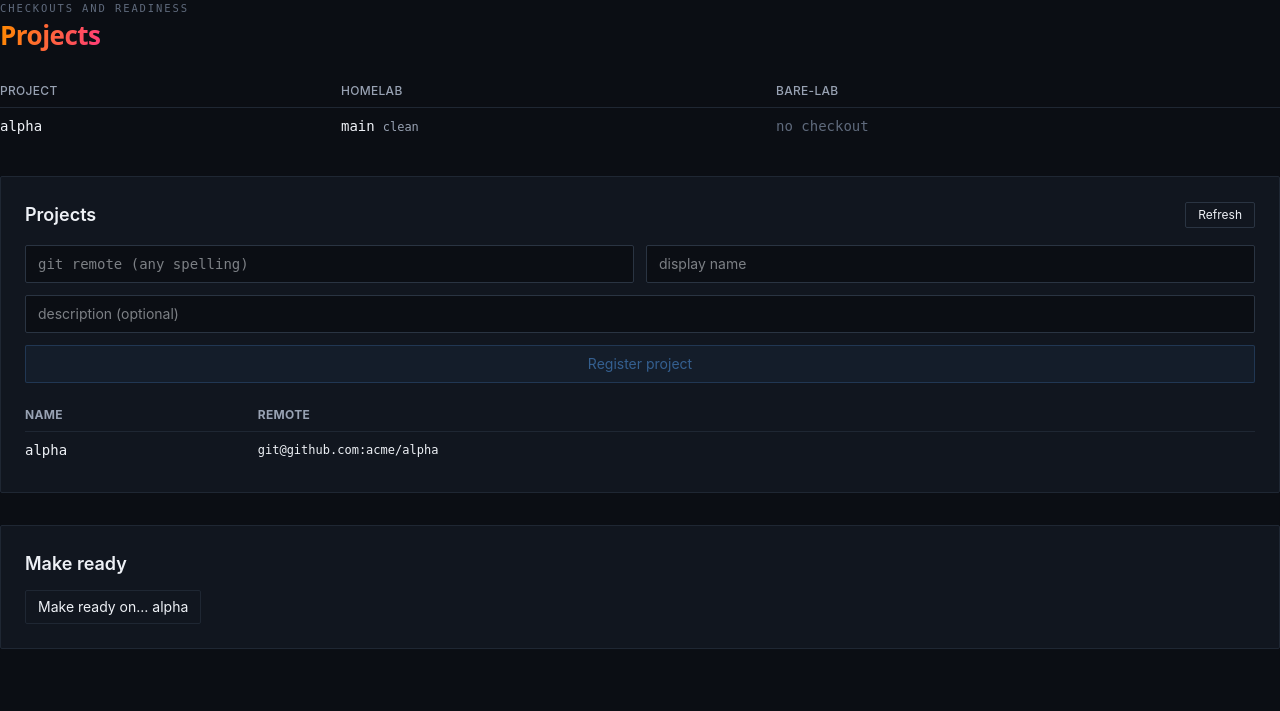
it: ProjectsPage › surfaces a blocked Frogenv approval as a state with its reason
Click the button with test id "ready-for-alpha": (113, 608) [25, 590, 201, 624]
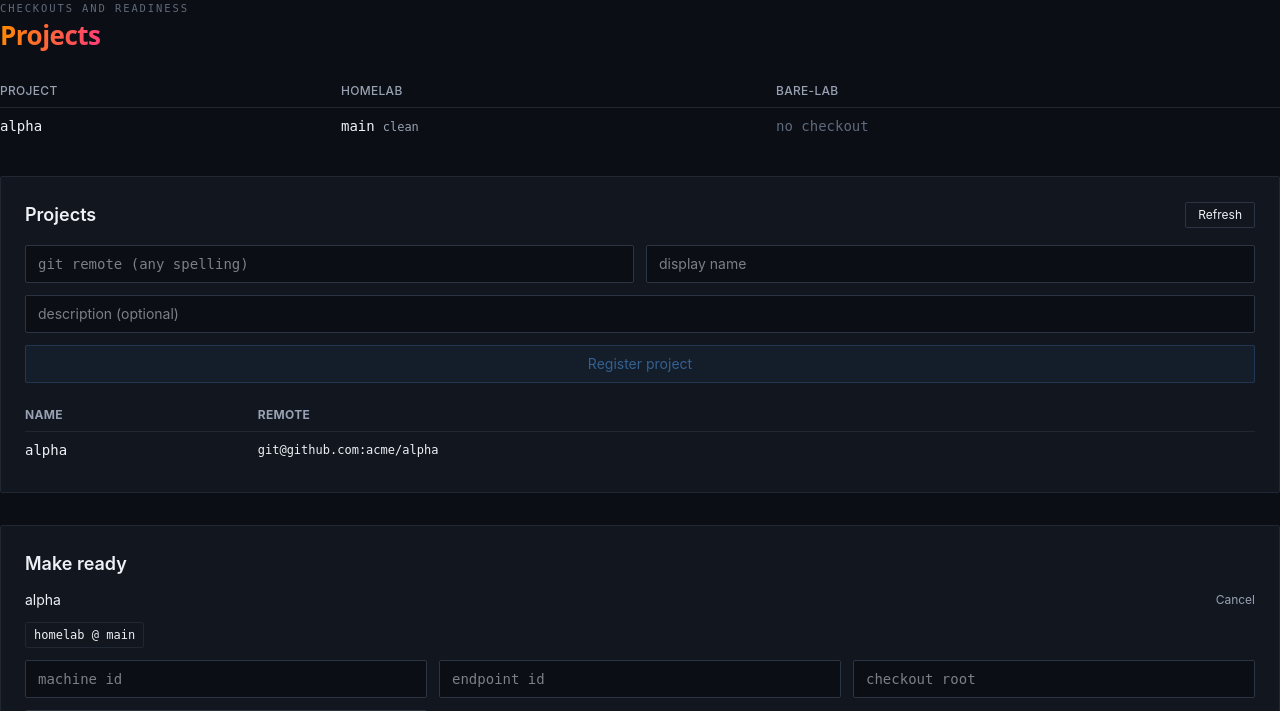
In the field with test id "ready-machine": (226, 680) [25, 660, 427, 698], type "m1"
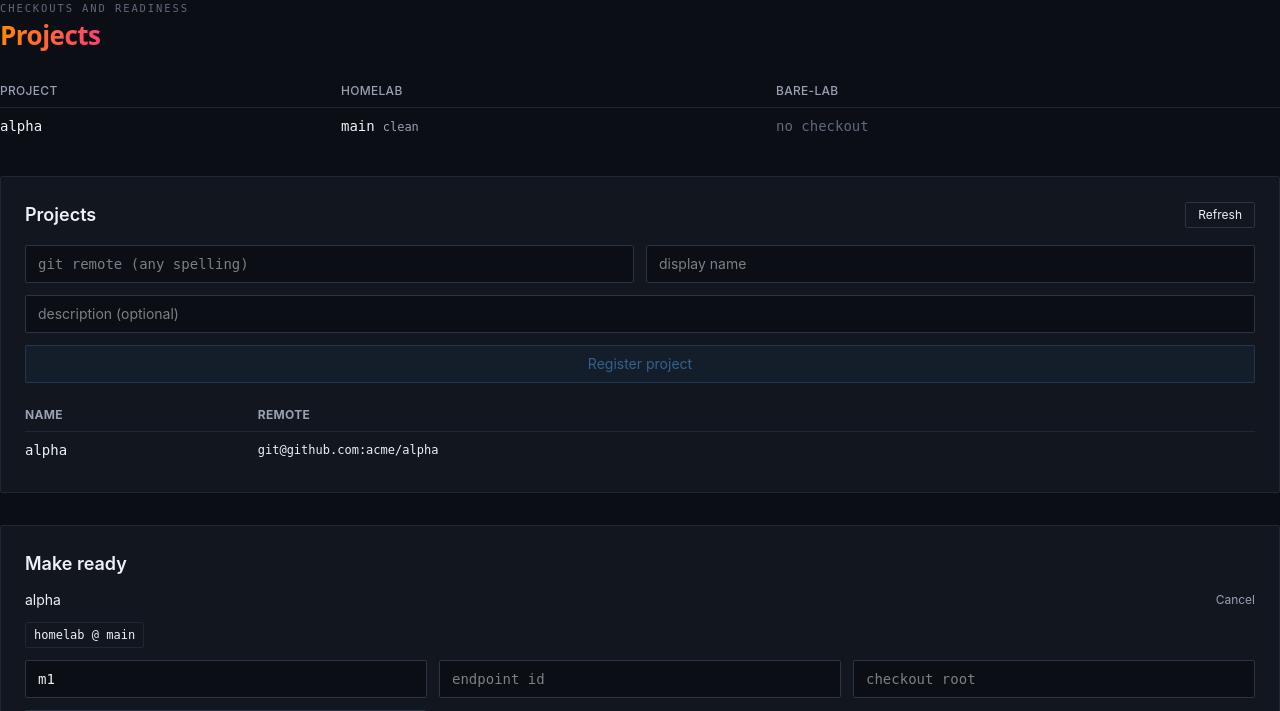
In the field with test id "ready-endpoint": (640, 680) [439, 660, 841, 698], type "ep1"
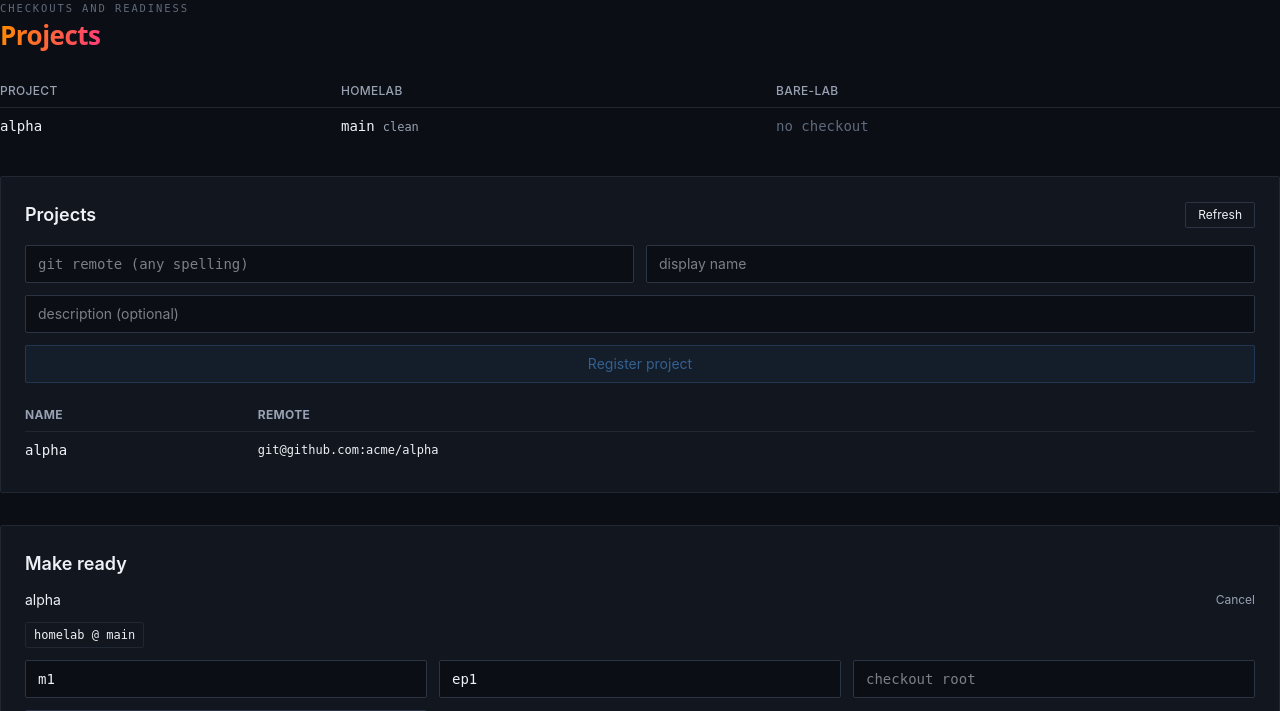
In the field with test id "ready-root": (1054, 680) [853, 660, 1255, 698], type "/srv/alpha"
(page scrolled)
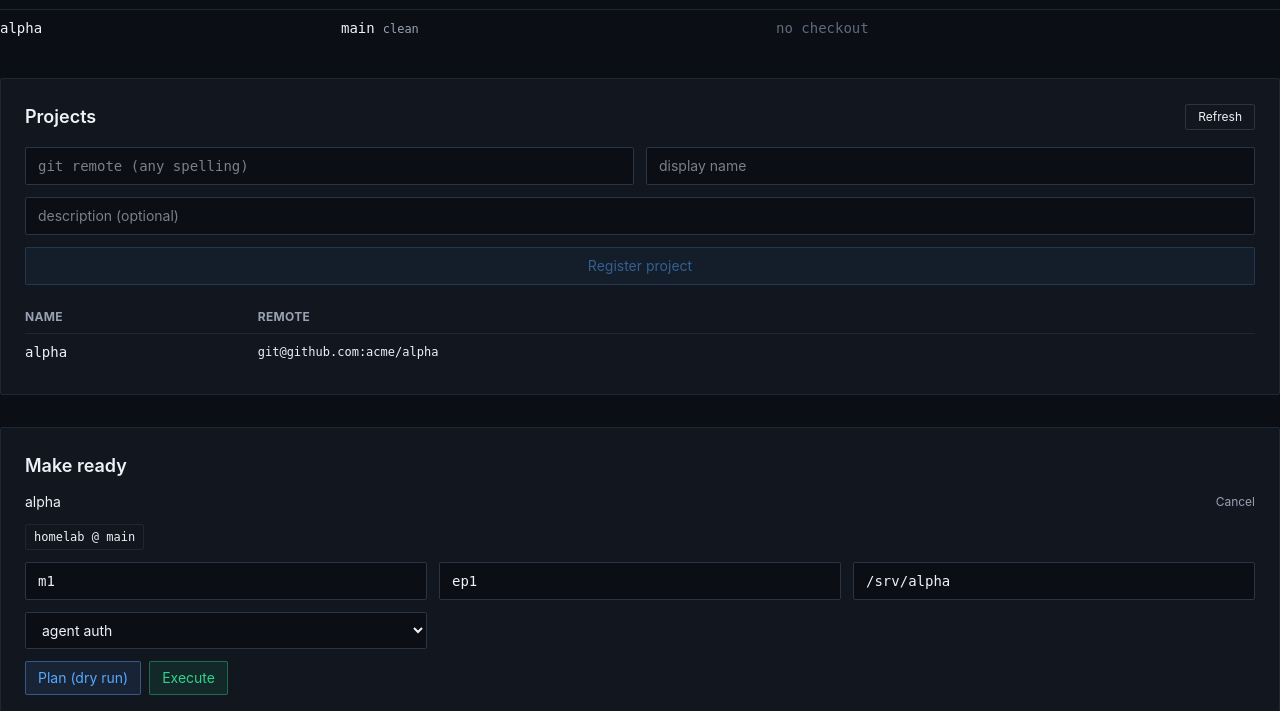
Click the button with test id "ready-execute": (189, 678) [149, 662, 228, 696]
(page scrolled)
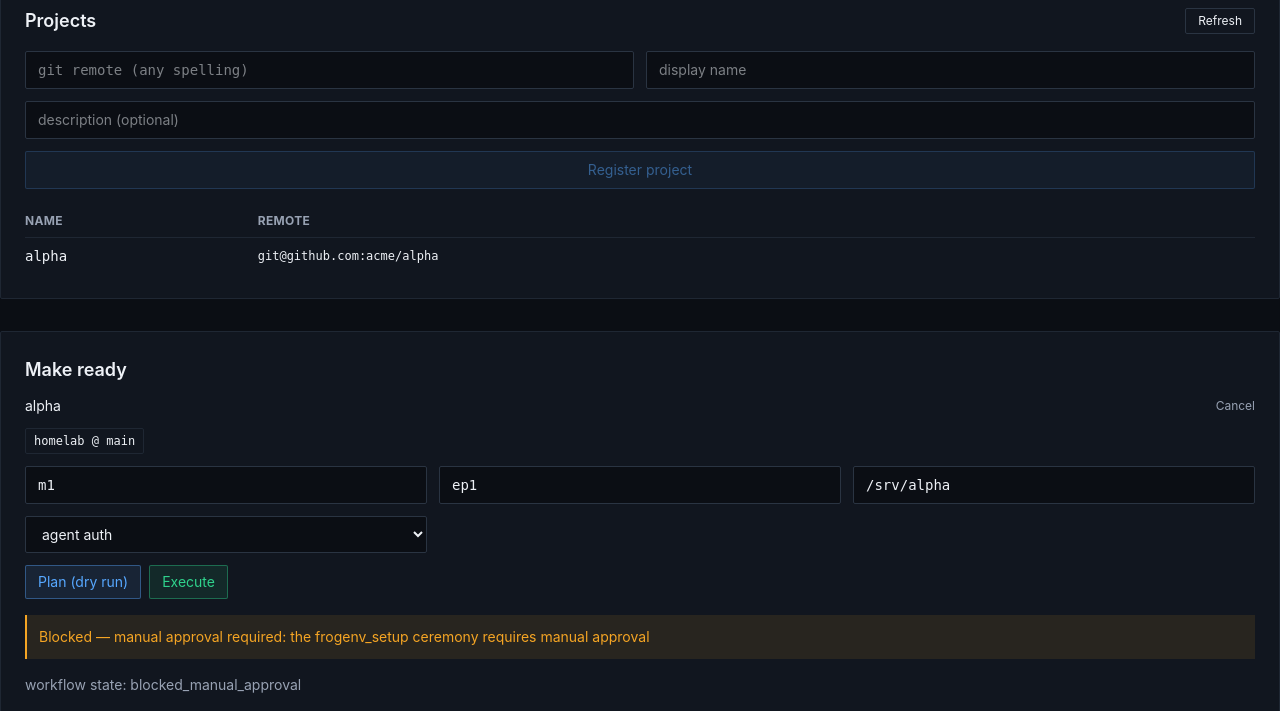
expect the message with test id "ready-blocked" is shown: met, box [25, 616, 1255, 660]
expect the text "the frogenv_setup ceremony requires manual approval" is shown: met, box [39, 628, 650, 646]
